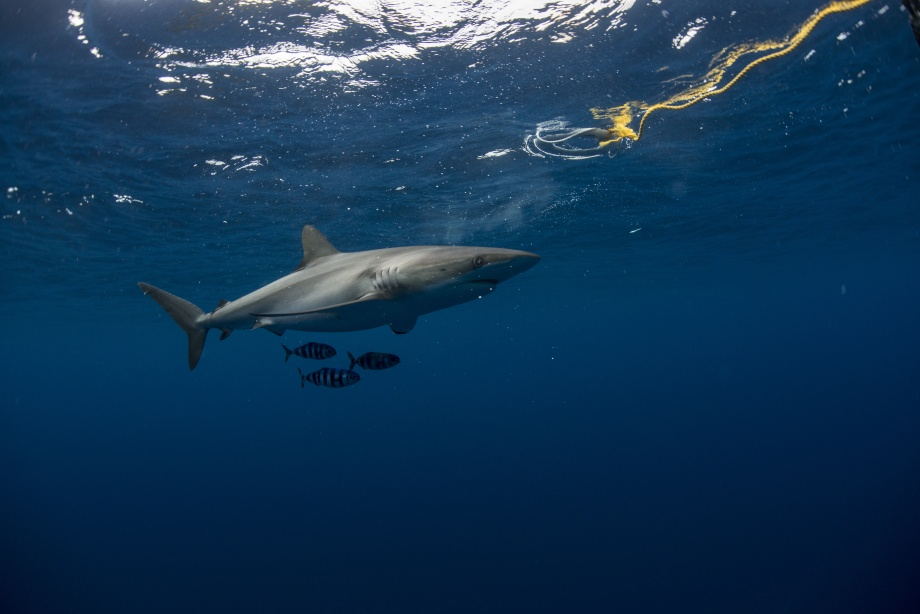Sedoso: (123, 213, 561, 370)
